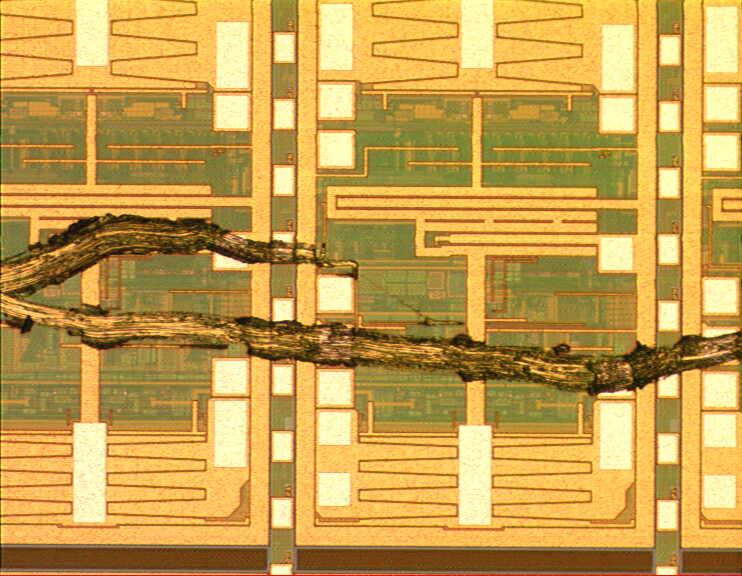SCRATCH: (1, 207, 742, 402)
